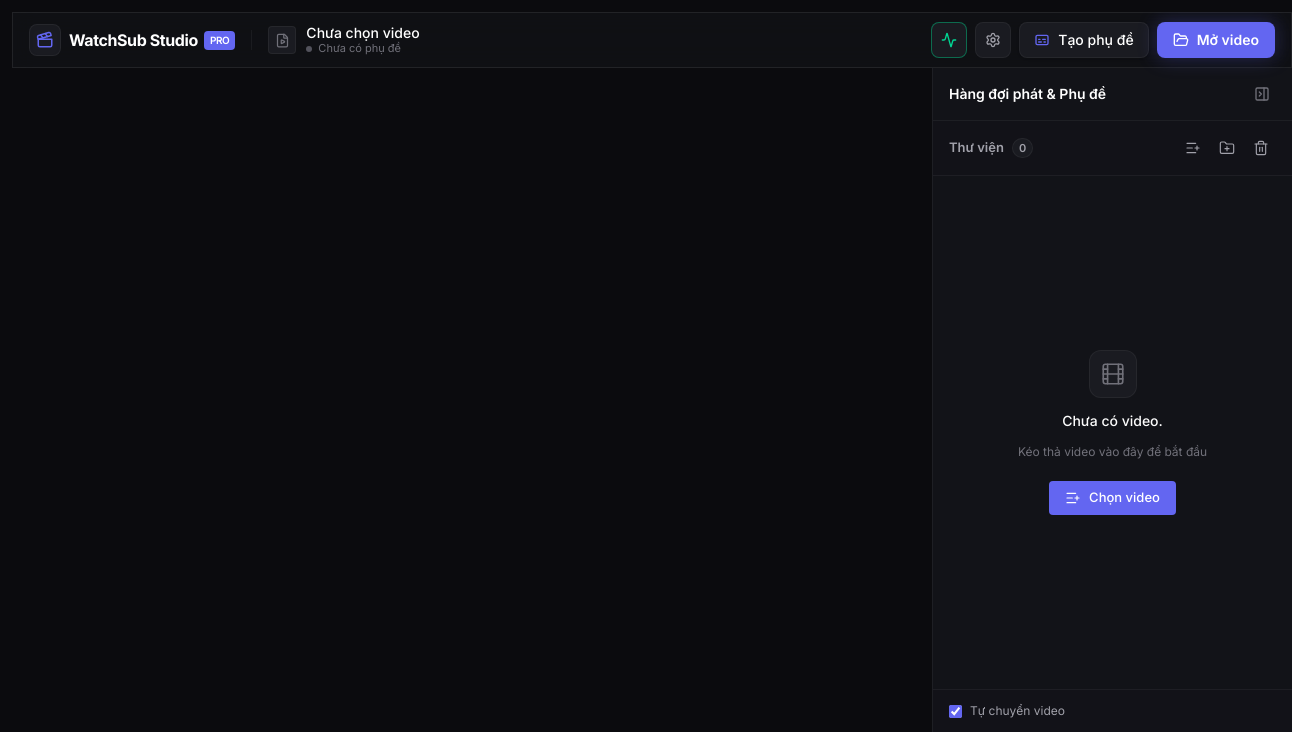
Test: App › ignores duplicate imports and reports the Vietnamese message
Click the button named "Thêm video": coordinates (1193, 148) [1178, 133, 1208, 163]
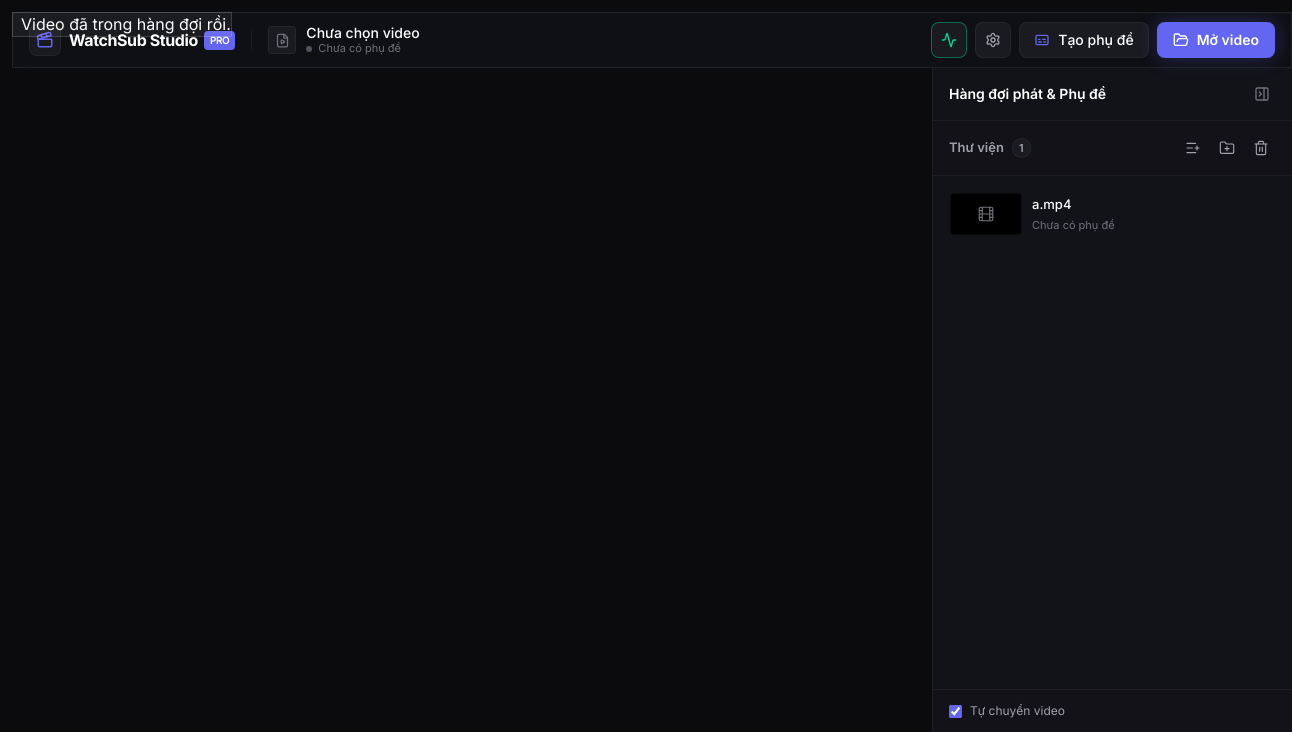
Expected: the number of list items is 1, [950, 193, 1239, 235]
Expected: the text "Video đã trong hàng đợi rồi." is shown, [12, 12, 232, 37]
